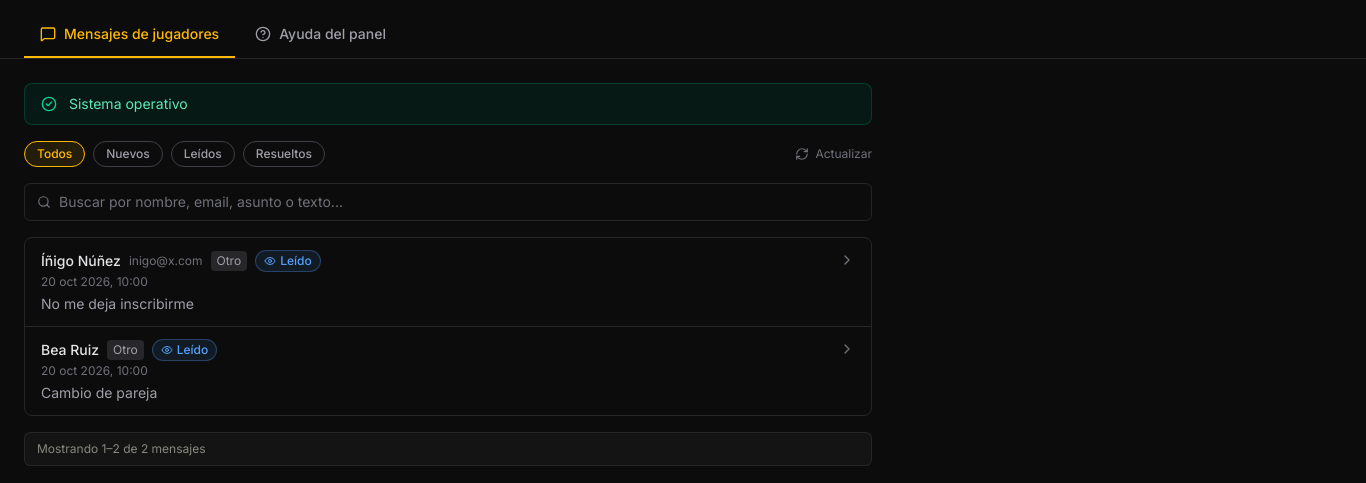
Test case: Soporte — quién escribe › busca por el nombre, sin mirar tildes
The image size is (1366, 483).
Expected: the text "Íñigo Núñez" is shown, [41, 251, 121, 271]
Type "inigo nunez" into the field with placeholder "Buscar por nombre, email, asunto o texto...". click: [459, 202]
box: [59, 192, 859, 212]
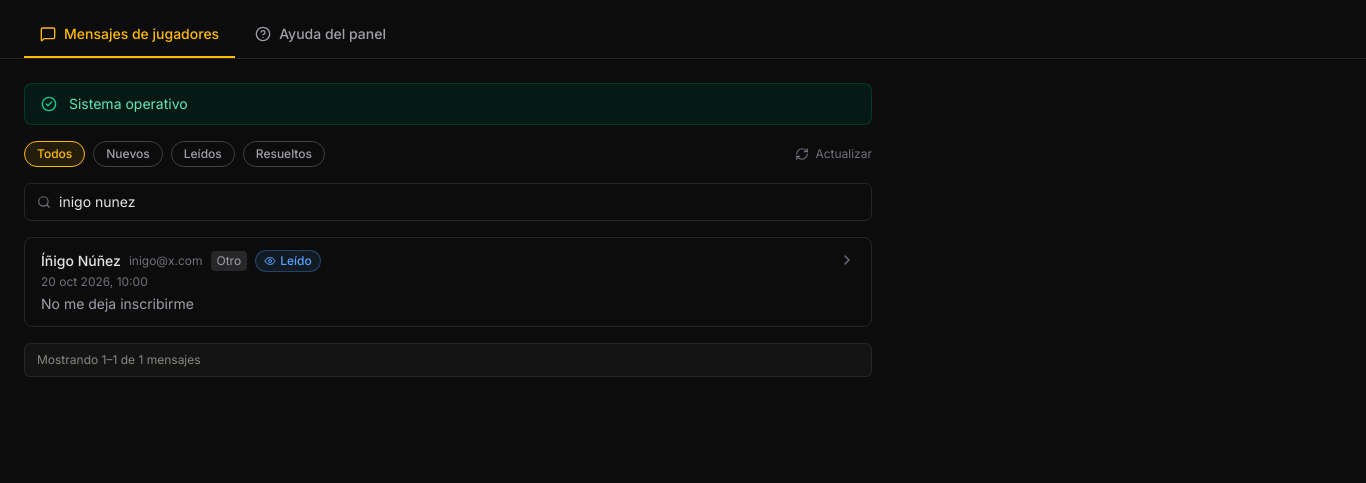
Expected: the text "Íñigo Núñez" is shown, [41, 251, 121, 271]
Result: the button "Bea Ruiz" is gone
